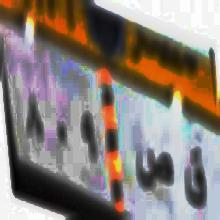0: (56, 106, 70, 159)
8: (21, 91, 44, 153)
9: (76, 108, 101, 168)
qaaf: (183, 145, 207, 216)
saad: (134, 148, 173, 200)
